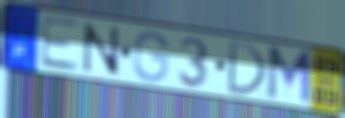3: (177, 36, 212, 90)
D: (225, 39, 269, 99)
E: (38, 13, 80, 73)
G: (130, 29, 171, 84)
M: (264, 44, 314, 108)
N: (82, 21, 122, 79)
